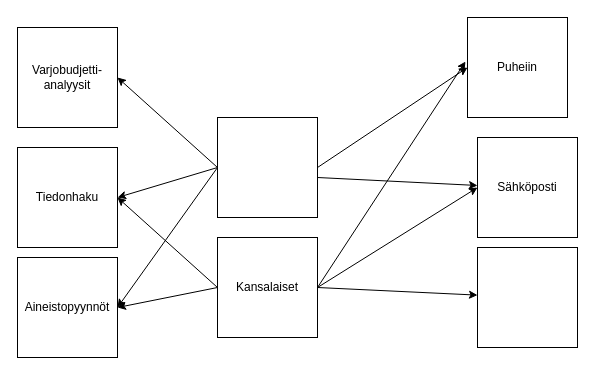
Image size: 595x375. Some labels were removed from this diagram. Here are the shapes that lost their labels. From the top down, the centre of each, then its label:
At pixel 267 167: "Ydinasiakkaat".
At pixel 527 297: "Finna".
